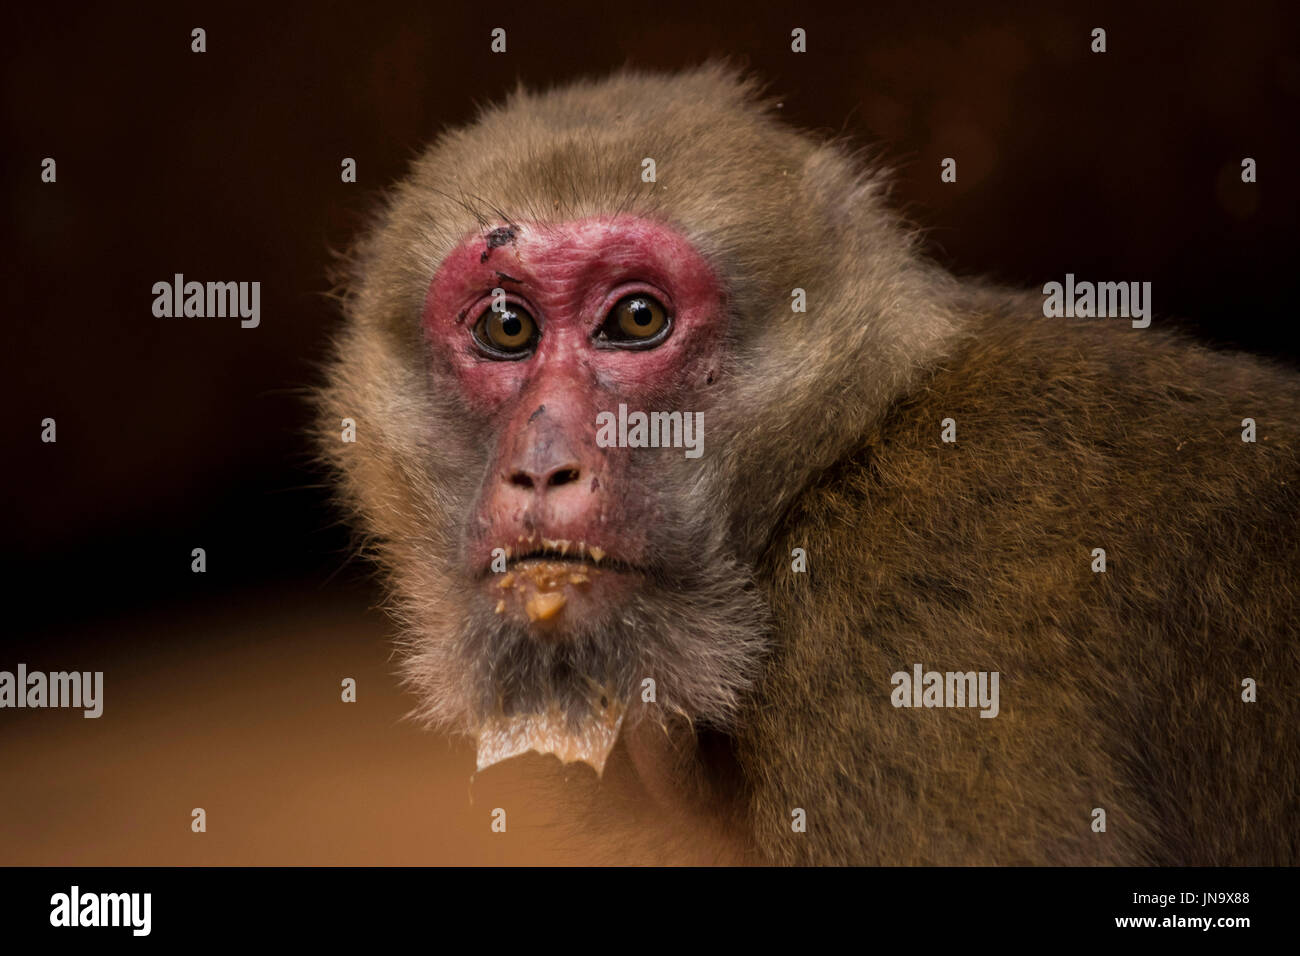monkey: (270, 43, 1300, 870)
